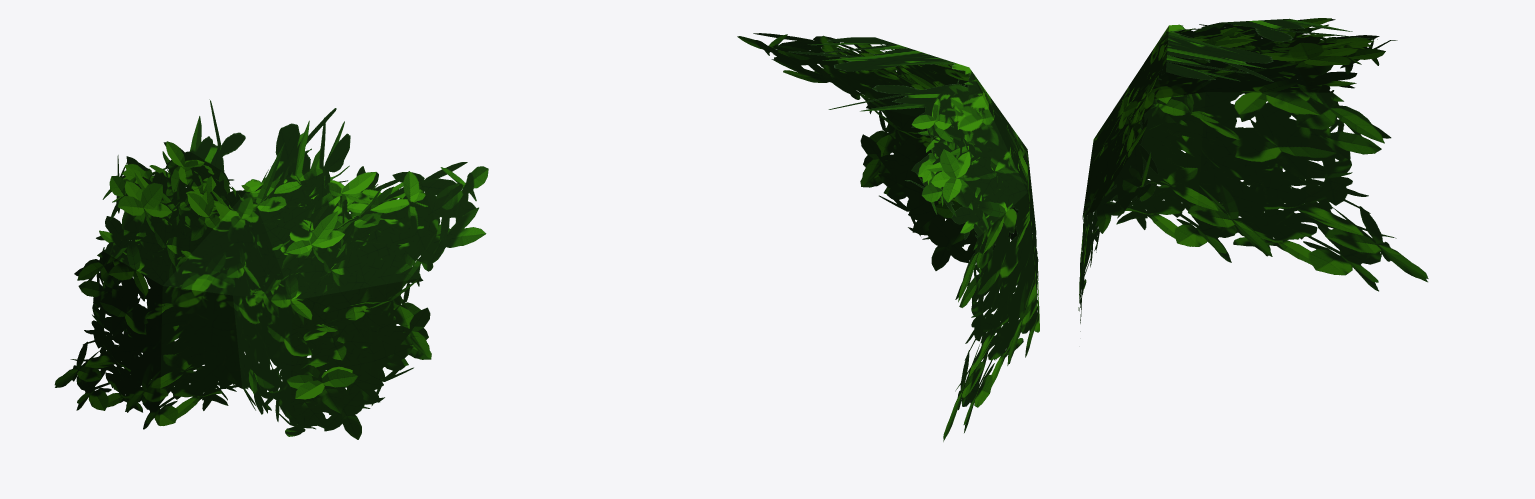
File: Bush.fbx
The picture shows the model from 3 angles, left to right: view 1: azimuth 30°, elevation 25°; view 2: azimuth 150°, elevation 25°; view 3: azimuth 270°, elevation 25°; orthographic projection. The views are drawn at different scales.
Parts seen in each view (by area): view 1: Cube.001; view 2: Cube.001; view 3: Cube.001.
Part boxes in pixels (x1,y1,x2,y2): Cube.001: (54,99,488,439); Cube.001: (737,33,1039,441); Cube.001: (1078,18,1428,331).
Bounding box in the file's own units: 242 × 210 × 242.
